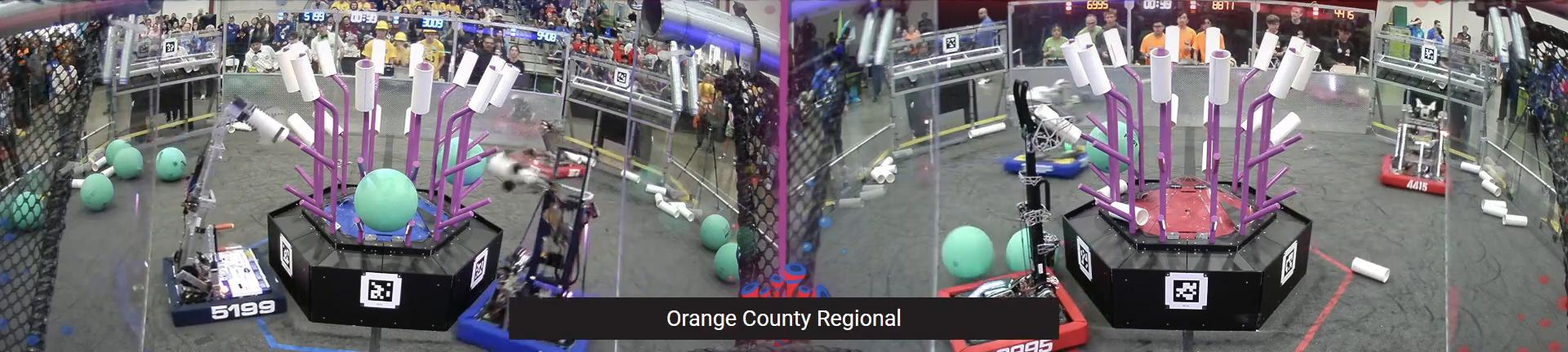reef: (1059, 26, 1320, 340), (276, 38, 506, 328)
robot: (942, 81, 1088, 352), (456, 179, 617, 352), (163, 97, 282, 328), (1005, 79, 1092, 181), (1383, 121, 1449, 198), (512, 118, 589, 180)
